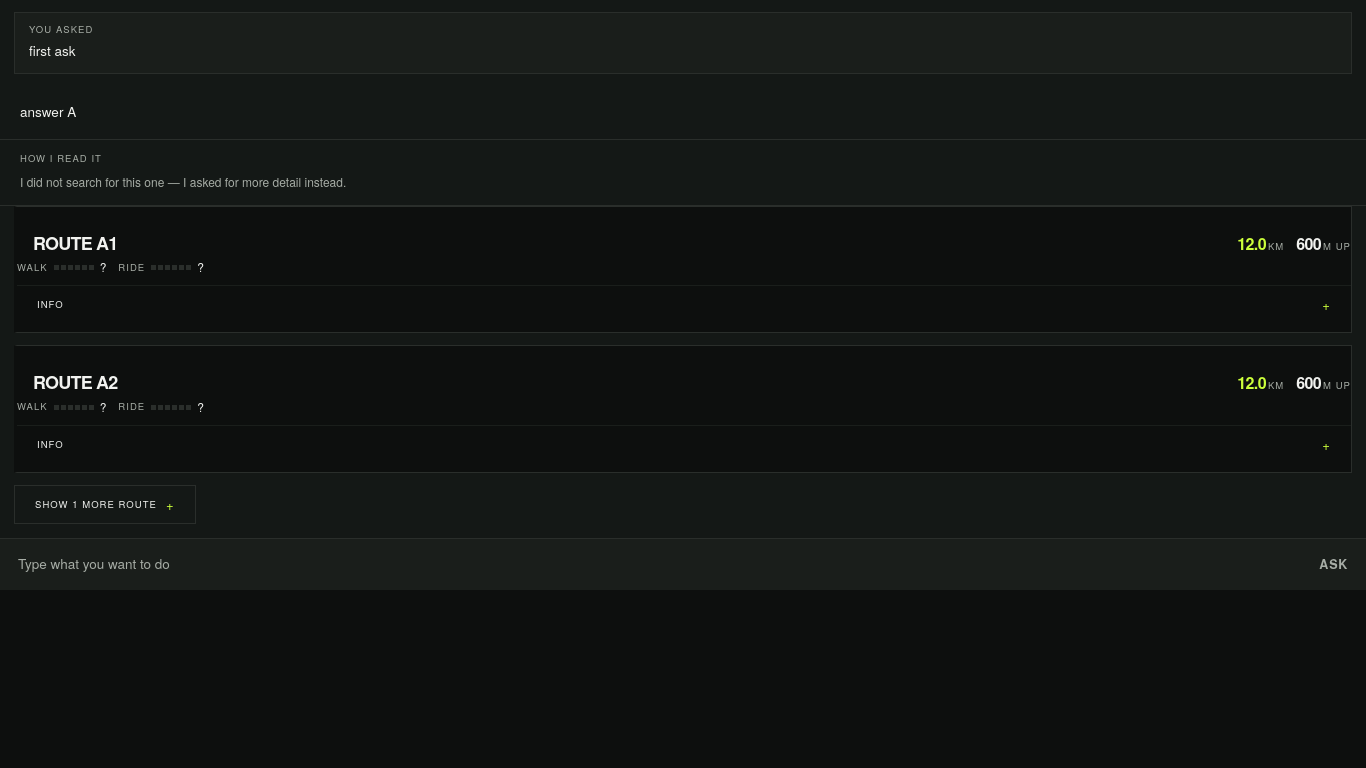
Test: asking › an emptied follow-up shows the No matches notice
In the field named "Your message": [651, 565] box [0,539,1301,590], type "only ones with a waterfall"
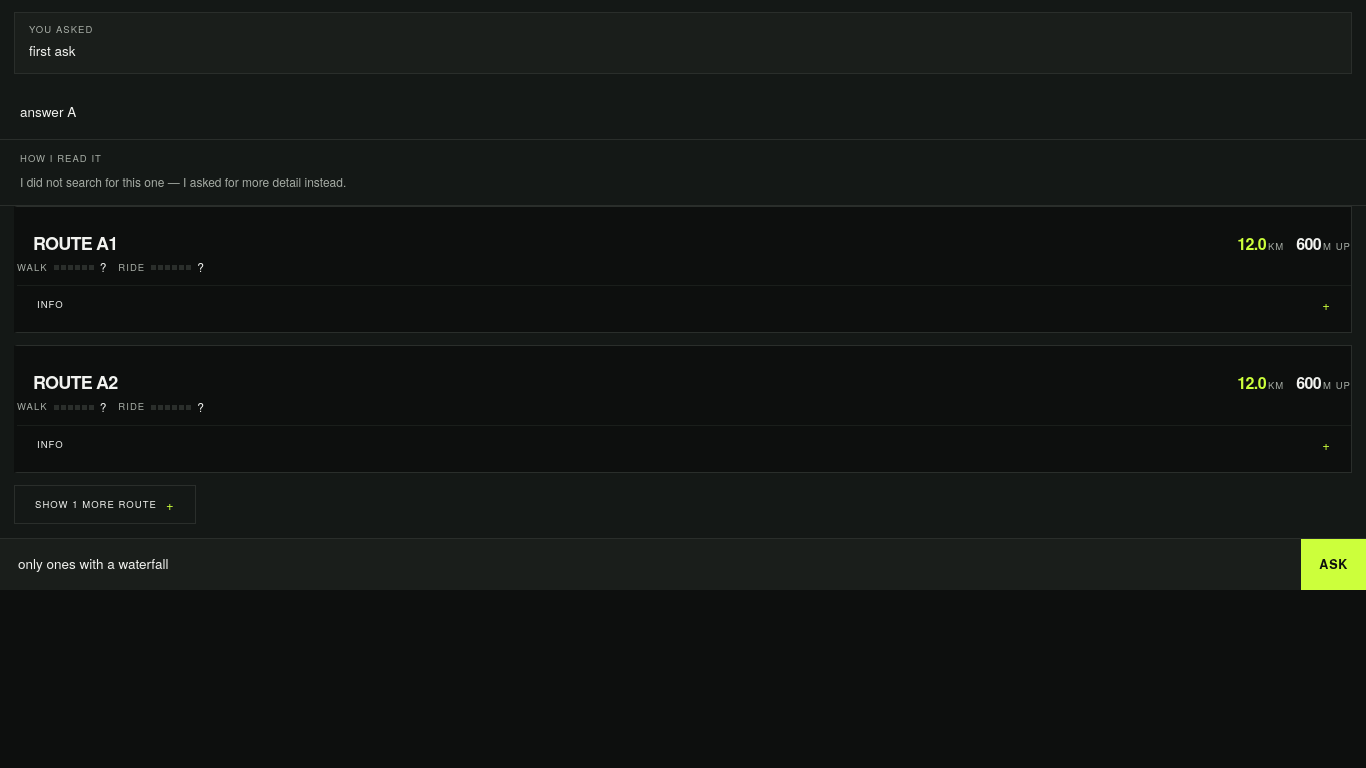
Submit the form, box [0,538,1365,590]
(page scrolled)
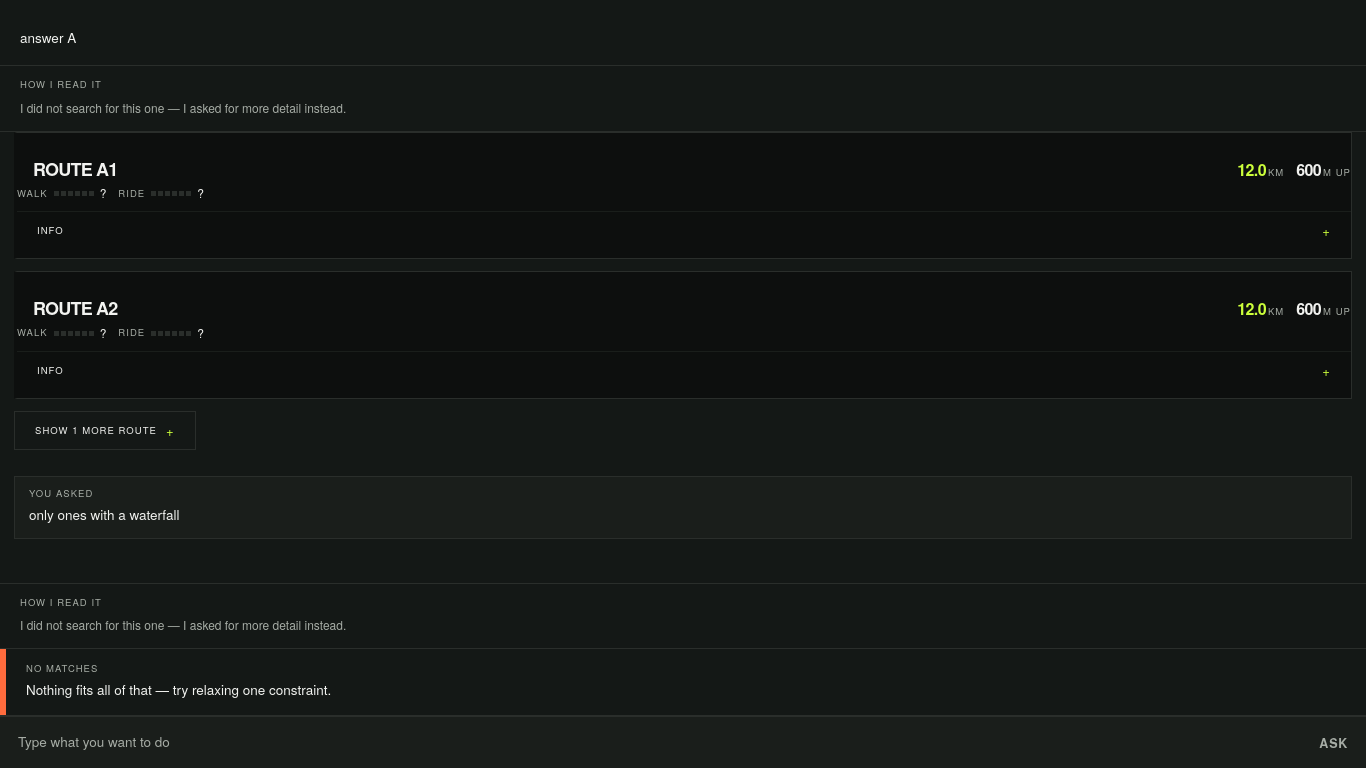
Expected: the element with test id "no-matches" is shown, [0,649,1365,716]
